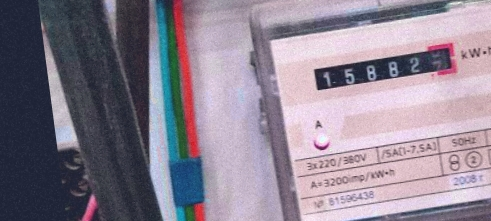1: (321, 69, 333, 88)
2: (407, 55, 420, 73)
5: (341, 66, 355, 85)
7: (430, 58, 443, 72)
8: (364, 62, 377, 81), (387, 59, 399, 77)
screen: (305, 38, 463, 96)
